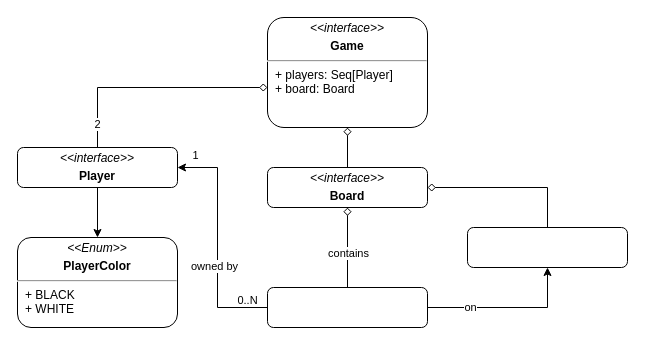
This 645x345 diagram has some shape labels left out. Each missing label, with the centre of its shape:
"<<interface>> Pawn" goes at point 347,307.
"<<interface>> Tile" goes at point 547,247.
